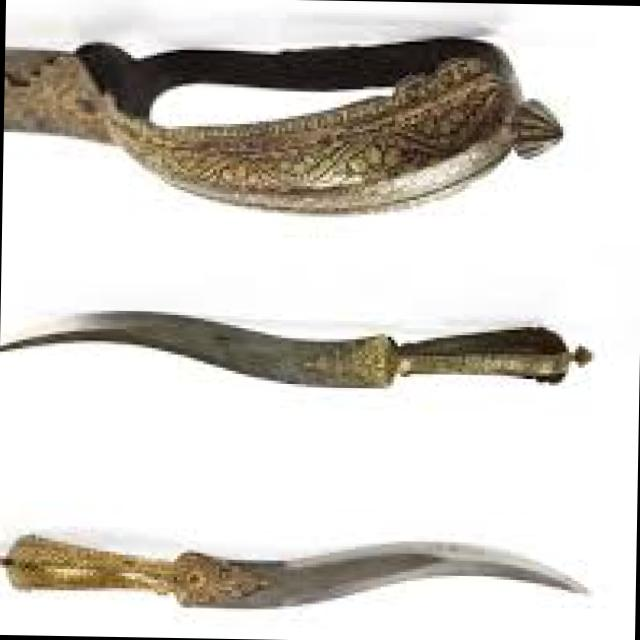Gun: (0, 266, 621, 444), (0, 457, 598, 640)
